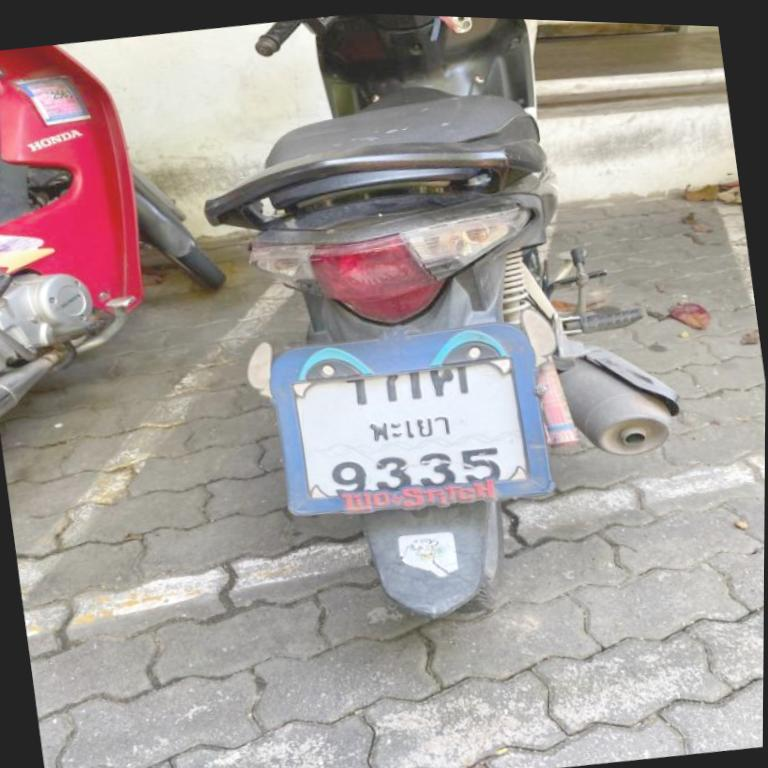license plate: (270, 322, 554, 516)
